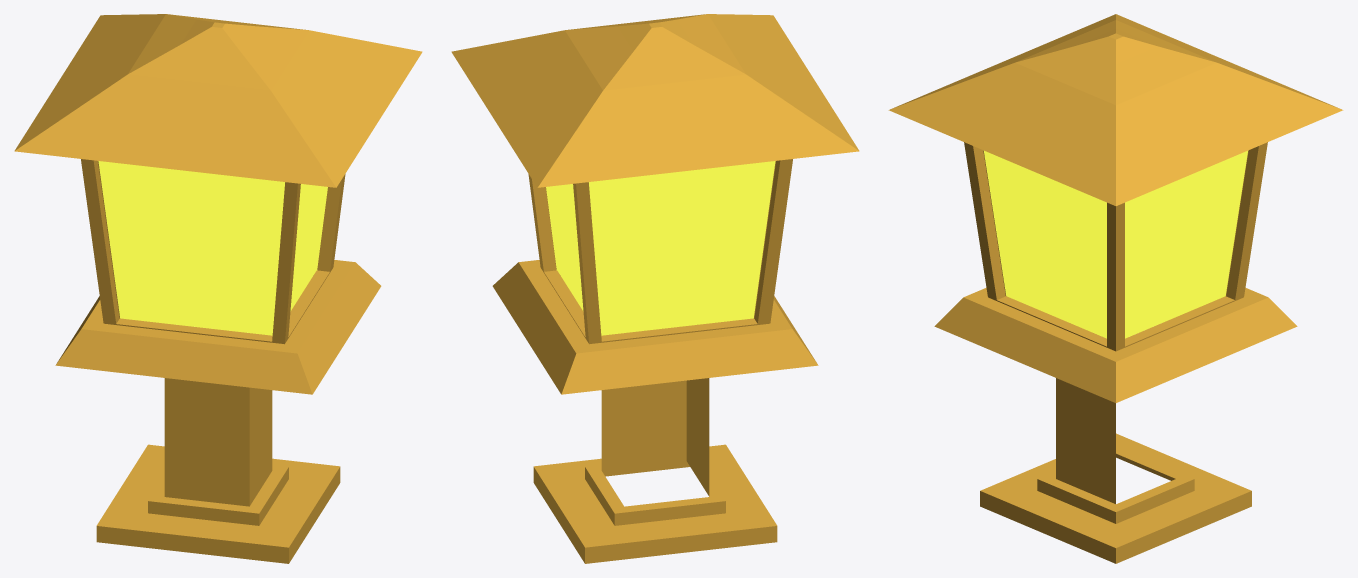
The model's file is SupportLamp.gltf.
3 renders of one model, left to right at view 1: azimuth 30°, elevation 25°; view 2: azimuth 150°, elevation 25°; view 3: azimuth 270°, elevation 25°, orthographic. The views are drawn at different scales.
Parts seen in each view (by area): view 1: Lamp; view 2: Lamp; view 3: Lamp.
Boxes of the visible parts, x1,y1,x2,y2 form: Lamp: (14, 14, 422, 563); Lamp: (451, 14, 859, 563); Lamp: (888, 14, 1343, 563).
Size of the model in its own units: 1.73 by 1.97 by 1.73.
